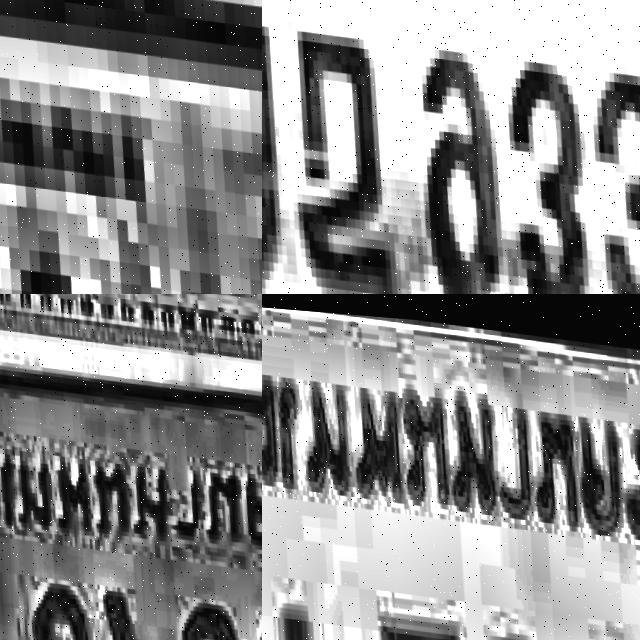license-plate: (262, 294, 640, 640), (262, 0, 640, 294), (0, 320, 262, 640), (0, 0, 262, 294)
